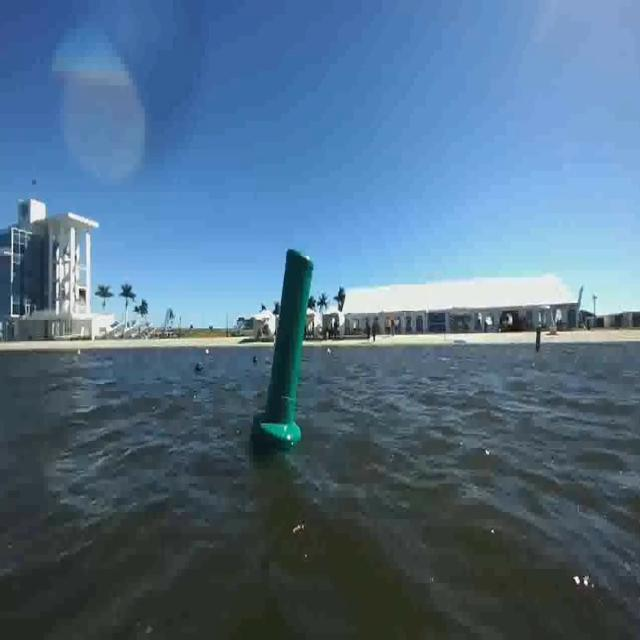green-column-buoy: (256, 245, 314, 448)
